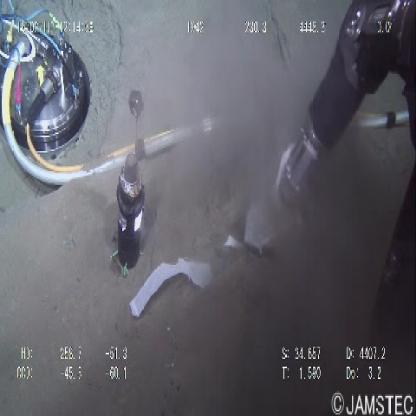Rov: (278, 2, 415, 217), (1, 5, 93, 191), (109, 80, 149, 293)
Rác: (128, 194, 308, 327)
